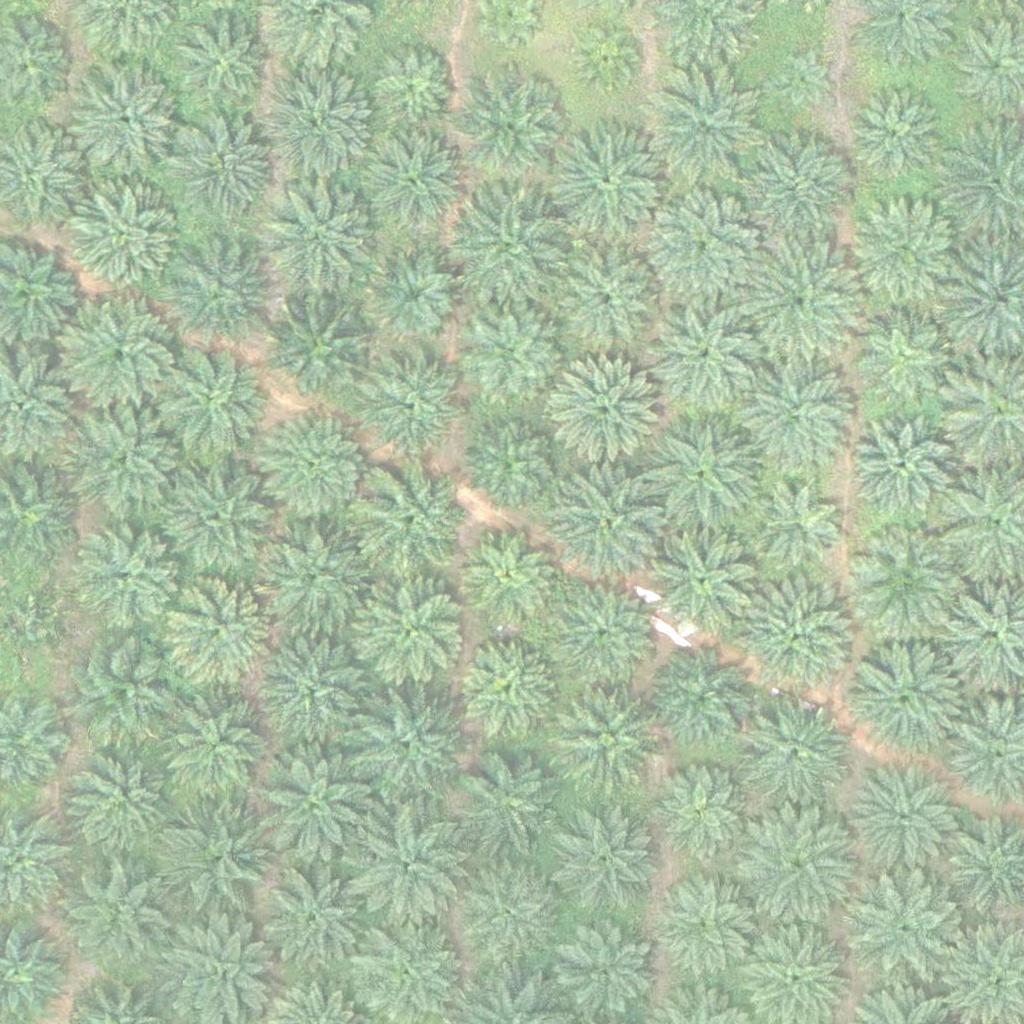Kelapa_Sawit: (267, 292, 380, 406), (152, 344, 265, 458), (259, 410, 372, 524), (357, 463, 470, 577), (354, 574, 467, 688), (455, 746, 568, 860), (645, 66, 758, 179), (649, 189, 762, 302), (551, 126, 664, 239), (263, 68, 376, 181), (264, 183, 377, 296), (166, 13, 279, 126), (67, 641, 180, 754), (255, 523, 368, 636), (551, 356, 664, 469), (644, 301, 757, 414), (647, 415, 760, 528), (648, 520, 761, 633), (742, 580, 855, 693), (852, 639, 965, 752), (848, 761, 961, 874), (852, 877, 965, 990), (739, 696, 852, 809), (744, 810, 857, 923), (452, 859, 565, 972), (352, 690, 465, 803), (354, 812, 467, 925), (162, 232, 274, 346), (72, 63, 184, 177), (68, 184, 180, 298), (549, 681, 661, 795), (548, 805, 660, 919), (849, 197, 961, 310), (743, 131, 855, 244), (745, 244, 857, 357), (551, 245, 663, 358), (455, 72, 567, 185), (454, 194, 566, 307), (357, 130, 469, 243), (167, 115, 279, 228), (63, 299, 175, 412), (68, 403, 180, 516), (69, 521, 181, 634), (164, 462, 276, 575), (165, 577, 277, 690), (262, 630, 374, 743), (549, 469, 661, 582), (547, 579, 659, 692), (739, 362, 851, 475), (851, 525, 963, 638), (260, 749, 372, 862), (257, 860, 369, 973), (160, 693, 272, 806), (163, 808, 275, 921), (365, 247, 465, 348), (465, 302, 565, 403), (466, 412, 566, 513), (650, 647, 750, 748), (750, 480, 850, 581), (854, 302, 954, 403), (850, 413, 950, 514), (67, 752, 167, 853), (64, 865, 164, 966), (845, 83, 945, 183), (368, 352, 468, 452), (464, 527, 564, 627), (460, 639, 560, 739), (651, 766, 751, 866), (656, 880, 756, 980), (369, 40, 457, 128), (575, 27, 638, 90), (772, 47, 834, 110)
